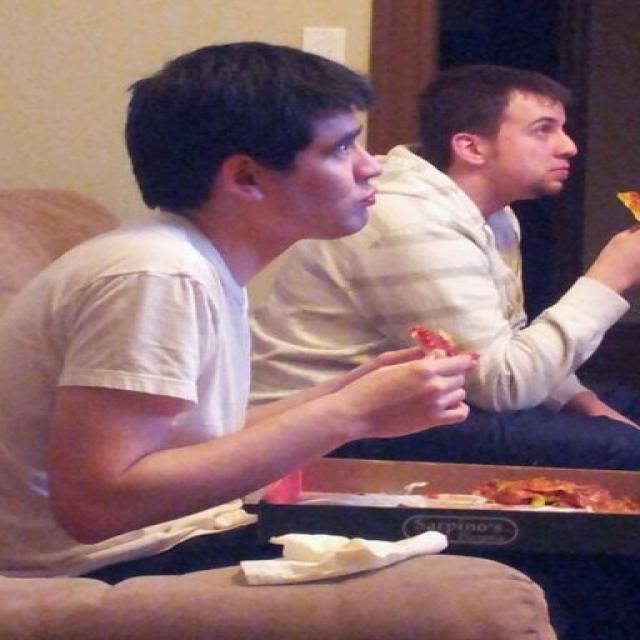Pizza: (478, 476, 638, 511), (410, 324, 460, 356), (618, 192, 640, 221)
